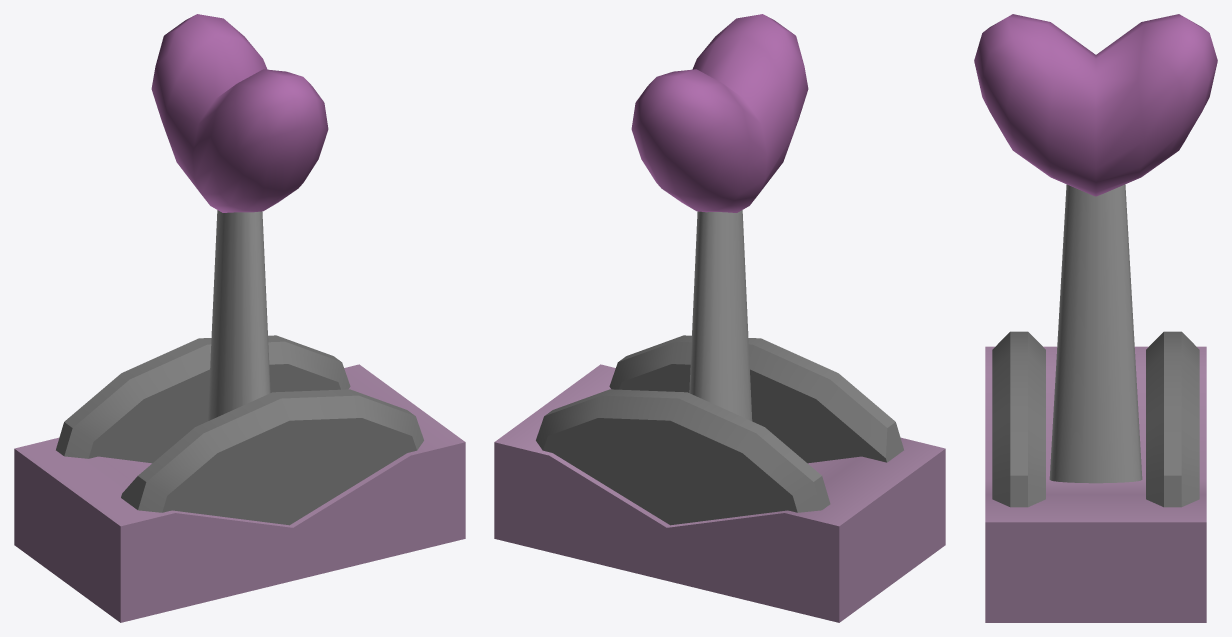
Rendered from Lever.fbx.
3 renders of one model, left to right at view 1: azimuth 30°, elevation 25°; view 2: azimuth 150°, elevation 25°; view 3: azimuth 270°, elevation 25°, orthographic. The views are drawn at different scales.
Visible parts, largest first — view 1: polySurface1, pCylinder6; view 2: polySurface1, pCylinder6; view 3: pCylinder6, polySurface1.
Boxes of the visible parts, bbox=[...] form: polySurface1: bbox=[14, 335, 465, 622]; pCylinder6: bbox=[151, 14, 328, 420]; polySurface1: bbox=[494, 335, 945, 622]; pCylinder6: bbox=[631, 14, 808, 420]; pCylinder6: bbox=[974, 14, 1217, 483]; polySurface1: bbox=[985, 331, 1206, 622].
Bounding box in the file's own units: 17.49 × 24.06 × 10.27.
